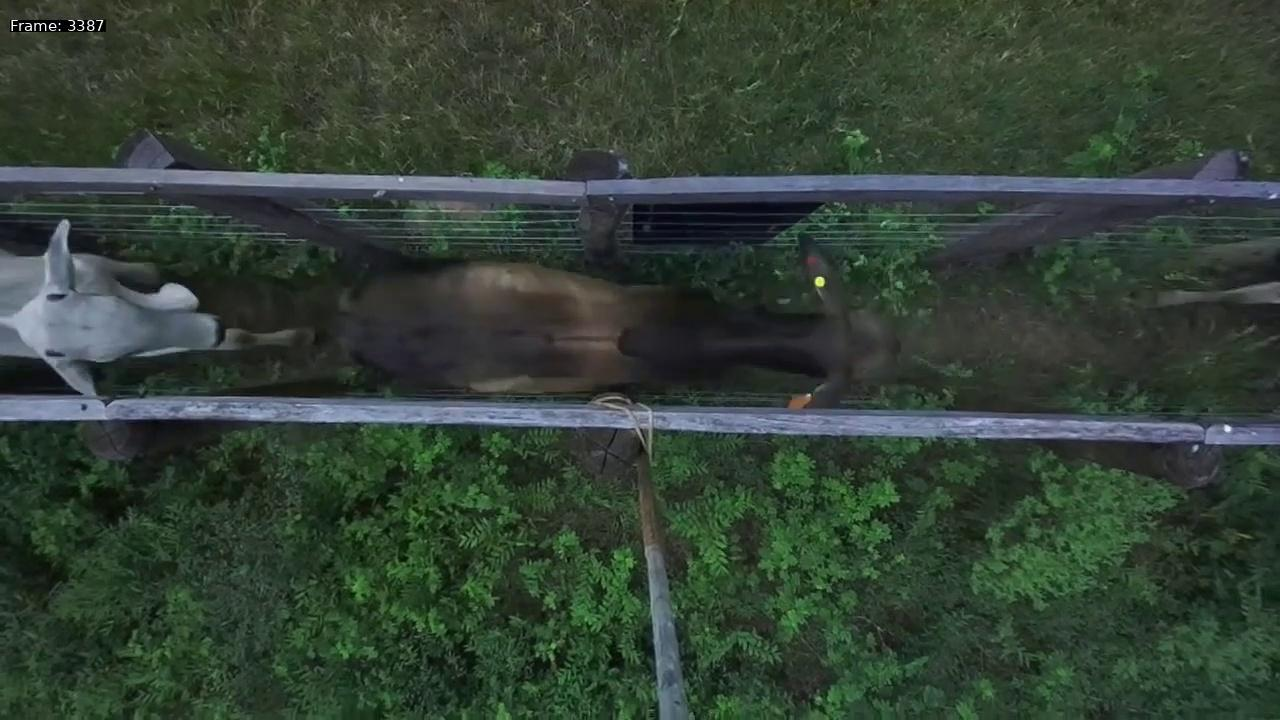cattle: (319, 239, 925, 420)
